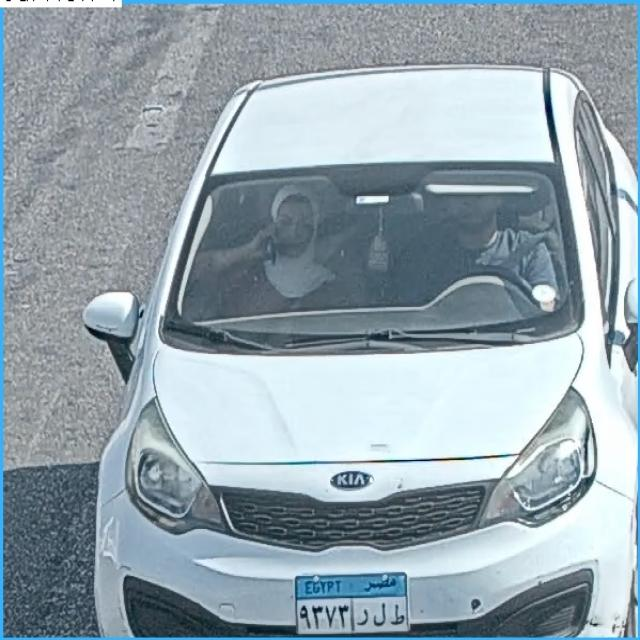windshield: (146, 172, 582, 339)
